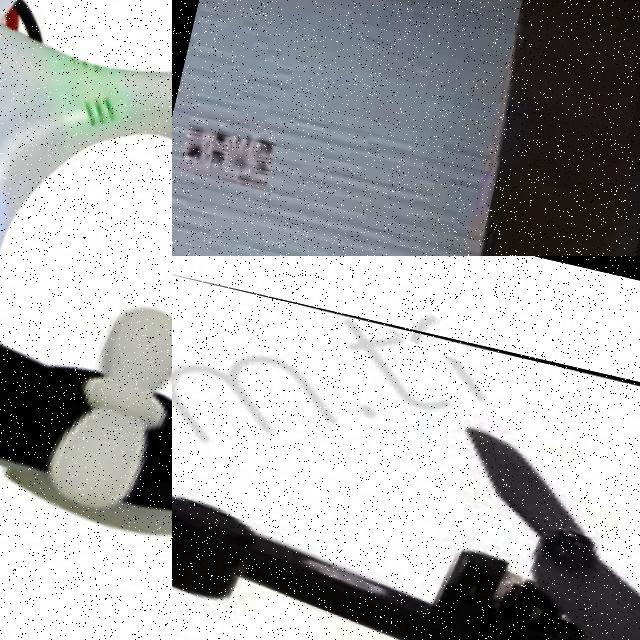drone: (172, 270, 640, 640), (0, 256, 172, 640), (0, 0, 172, 256)
